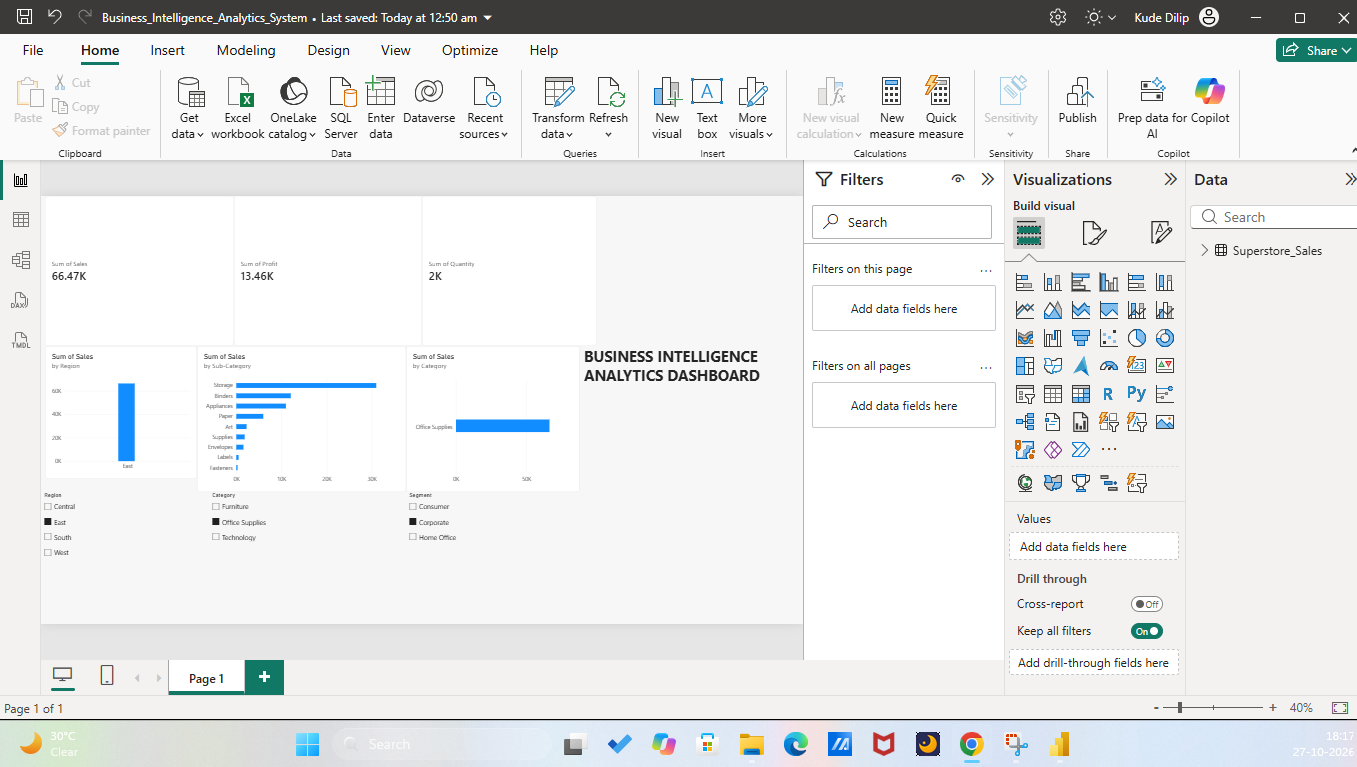

What the dashboard file says about the page in this screenshot:
{"tool":"powerbi","page":{"name":"Page 1","canvas":[1920,1080],"ordinal":0},"visuals":[{"type":"cardVisual","fields":{"Data":["Sum(Superstore_Sales.Sales)"]},"box":[10.1,0,476.2,378],"z":0},{"type":"cardVisual","fields":{"Data":["Sum(Superstore_Sales.Profit)"]},"box":[486.3,0,473.7,378],"z":1},{"type":"cardVisual","fields":{"Data":["Sum(Superstore_Sales.Quantity)"]},"box":[960,0,440.9,378],"z":2},{"type":"clusteredBarChart","fields":{"Category":["Superstore_Sales.Category"],"Y":["Sum(Superstore_Sales.Sales)"]},"box":[919.7,378,438.4,367.9],"z":3},{"type":"clusteredColumnChart","fields":{"Category":["Superstore_Sales.Region"],"Y":["Sum(Superstore_Sales.Sales)"]},"box":[10.1,378,383,335.1],"z":4},{"type":"clusteredBarChart","fields":{"Category":["Superstore_Sales.Sub-Category"],"Y":["Sum(Superstore_Sales.Sales)"]},"box":[393.1,378,526.6,367.9],"z":5},{"type":"slicer","fields":{"Values":["Superstore_Sales.Region"]},"box":[0,745.8,423,304],"z":6},{"type":"slicer","fields":{"Values":["Superstore_Sales.Category"]},"box":[423,746,497,304],"z":7},{"type":"slicer","fields":{"Values":["Superstore_Sales.Segment"]},"box":[920,746,438,304],"z":8},{"type":"textbox","box":[1368.2,378,488.8,257],"z":9}]}

Visuals, with their boxes on the page's 1920x1080 design canvas (x1, y1, x2, y2). These are canvas units, not pixel positions in the 1357x767 screenshot, which may show the page scaled, cropped or inside an application window:
cardVisual - Sum(Superstore_Sales.Sales): x1=10 y1=0 x2=486 y2=378
cardVisual - Sum(Superstore_Sales.Profit): x1=486 y1=0 x2=960 y2=378
cardVisual - Sum(Superstore_Sales.Quantity): x1=960 y1=0 x2=1401 y2=378
clusteredBarChart - Superstore_Sales.Category x Sum(Superstore_Sales.Sales): x1=920 y1=378 x2=1358 y2=746
clusteredColumnChart - Superstore_Sales.Region x Sum(Superstore_Sales.Sales): x1=10 y1=378 x2=393 y2=713
clusteredBarChart - Superstore_Sales.Sub-Category x Sum(Superstore_Sales.Sales): x1=393 y1=378 x2=920 y2=746
slicer - Superstore_Sales.Region: x1=0 y1=746 x2=423 y2=1050
slicer - Superstore_Sales.Category: x1=423 y1=746 x2=920 y2=1050
slicer - Superstore_Sales.Segment: x1=920 y1=746 x2=1358 y2=1050
textbox: x1=1368 y1=378 x2=1857 y2=635
